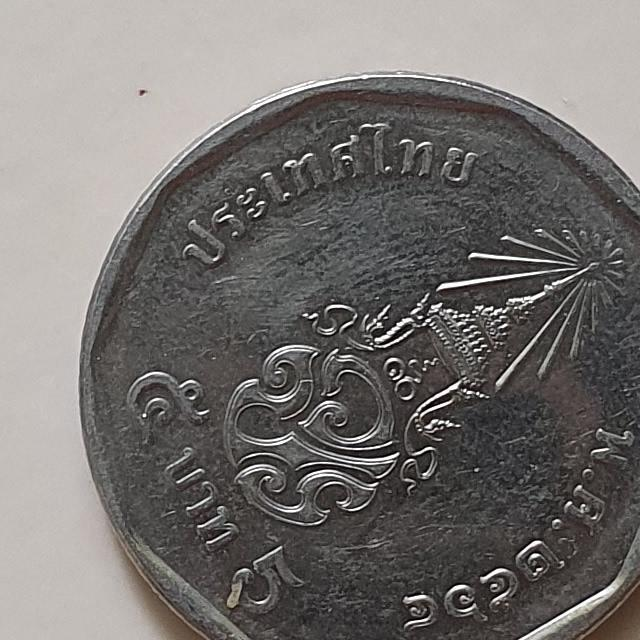5 Bath: (70, 64, 640, 640)
